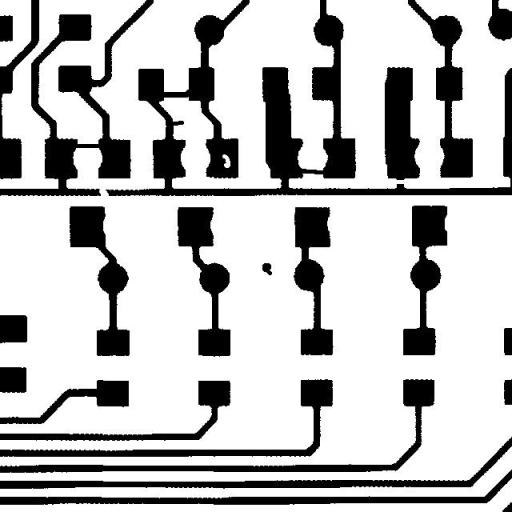copper: (254, 256, 280, 282)
open: (91, 180, 116, 206), (386, 172, 414, 191)
pin-hole: (214, 146, 238, 176)
short: (150, 82, 198, 106), (289, 160, 336, 182), (65, 135, 109, 155)
spur: (162, 112, 191, 134)
